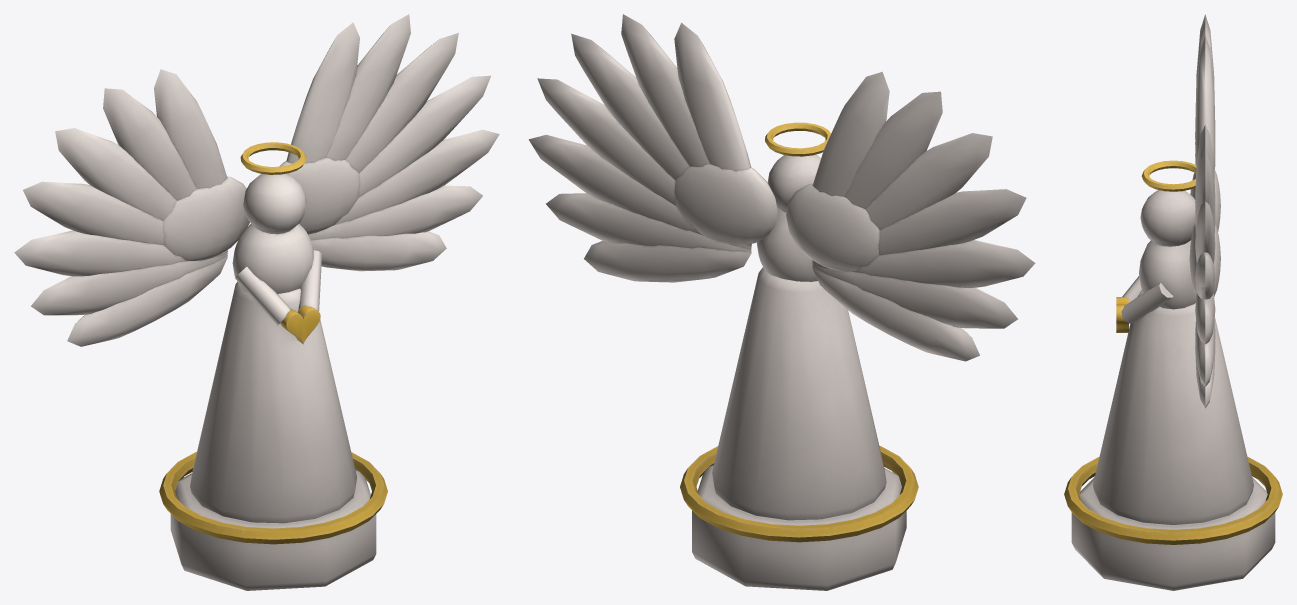
Rendered from hs_angel_statue.glb.
The picture shows the model from 3 angles, left to right: view 1: azimuth 30°, elevation 25°; view 2: azimuth 150°, elevation 25°; view 3: azimuth 270°, elevation 25°; orthographic projection. The views are drawn at different scales.
Parts seen in each view (by area): view 1: hs_angel_statue; view 2: hs_angel_statue; view 3: hs_angel_statue.
Part boxes in pixels (bbox=[...]): hs_angel_statue: bbox=[14, 14, 499, 590]; hs_angel_statue: bbox=[528, 14, 1035, 590]; hs_angel_statue: bbox=[1064, 14, 1282, 590].
Size of the model in its own units: 4.21 by 4.1 by 1.72.
2 materials, 2 textured.
